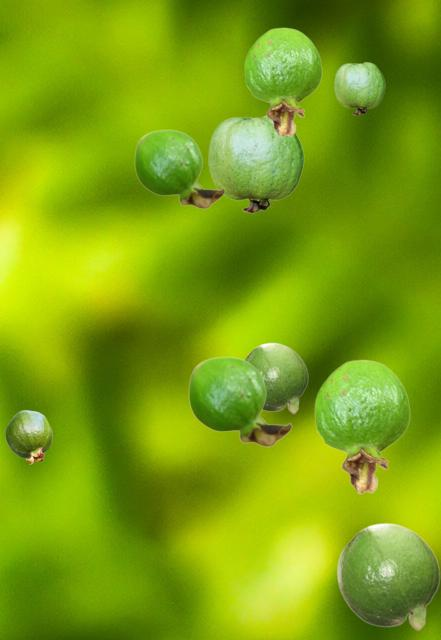guava: (314, 359, 409, 493), (336, 522, 439, 630), (188, 356, 291, 446), (208, 115, 303, 212), (244, 27, 321, 136), (134, 129, 224, 208), (244, 342, 307, 413), (334, 62, 384, 114), (5, 410, 51, 463)
